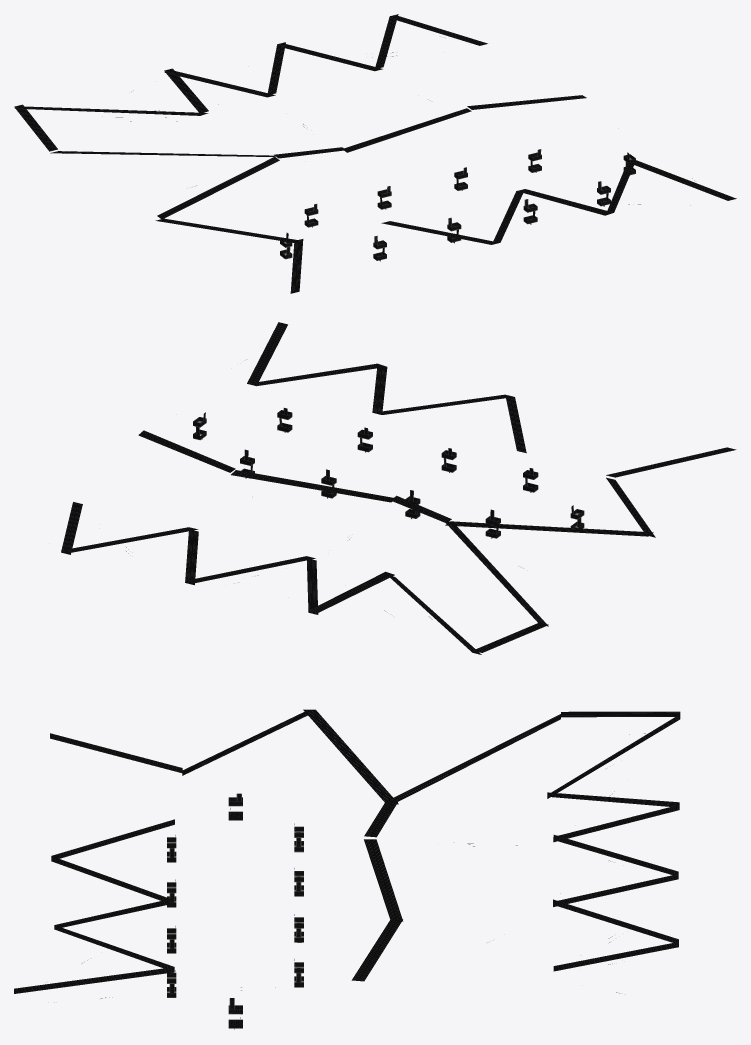
Rendered from snpedteew8_las01.obj.
The picture shows the model from 3 angles, top to bottom: view 1: azimuth 30°, elevation 25°; view 2: azimuth 150°, elevation 25°; view 3: azimuth 270°, elevation 25°; orthographic projection. The views are drawn at different scales.
Visible parts, largest first — view 1: snpedteew8_las01; view 2: snpedteew8_las01; view 3: snpedteew8_las01.
Part boxes in pixels (box(x1,y1,x2,y2)): snpedteew8_las01: box(14, 14, 736, 293); snpedteew8_las01: box(61, 322, 736, 654); snpedteew8_las01: box(14, 709, 680, 1029).
Size of the model in its own units: 110 by 9.23 by 112.
